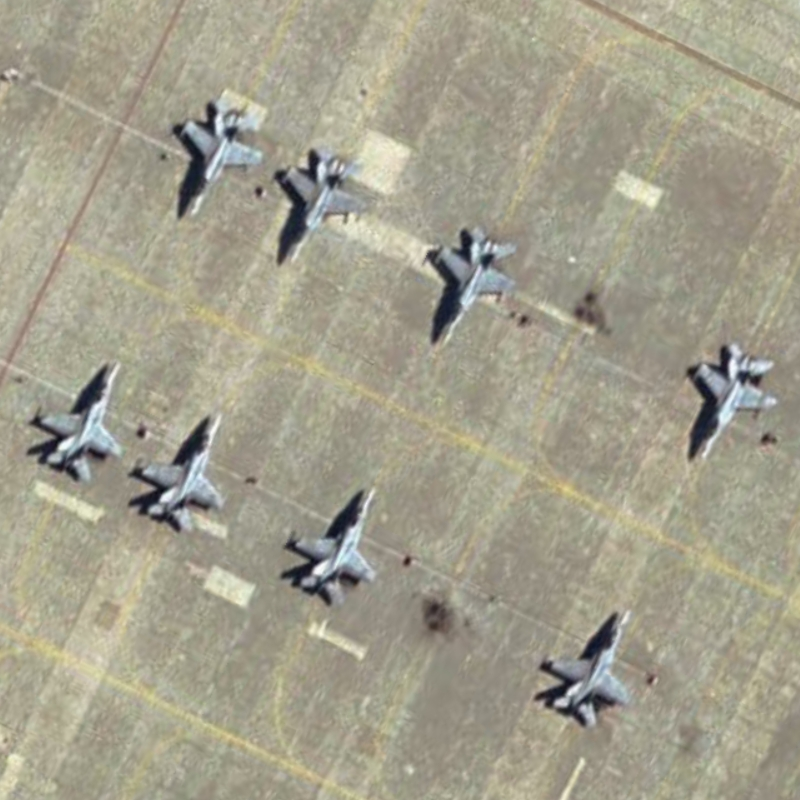A16: (682, 335, 785, 472), (165, 98, 271, 227), (418, 221, 520, 355), (26, 355, 126, 489), (282, 482, 385, 612), (269, 140, 368, 274), (535, 604, 635, 734), (133, 409, 228, 537)
